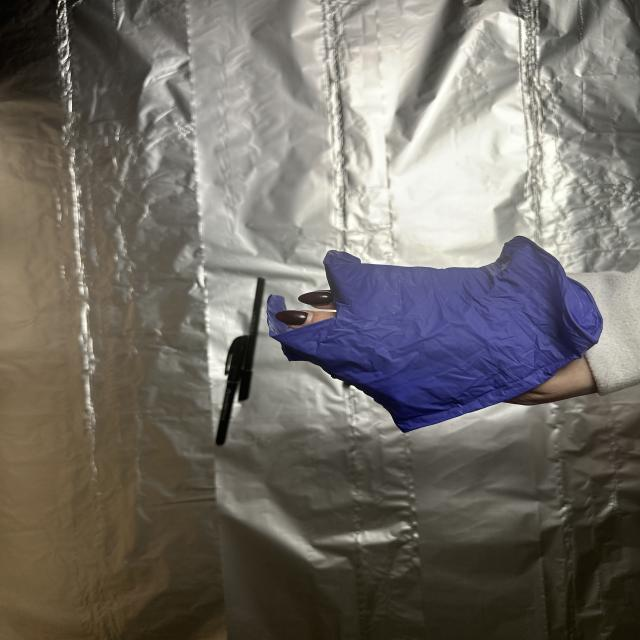glove_not_fitted: (264, 242, 624, 435)
